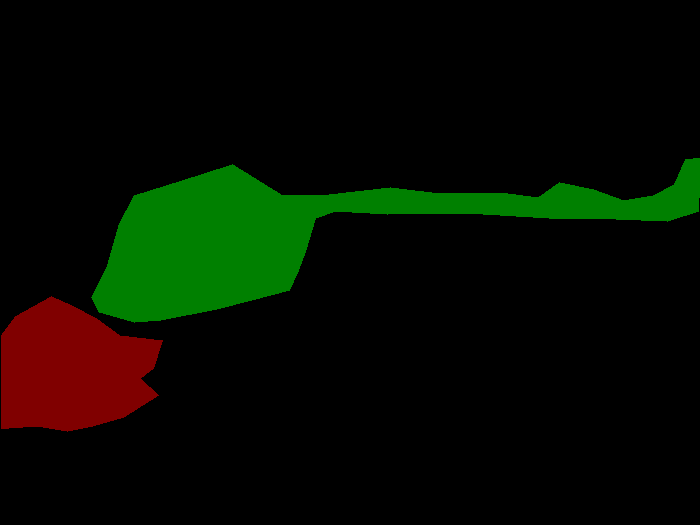fire: (91, 157, 700, 322), (1, 296, 162, 431)
